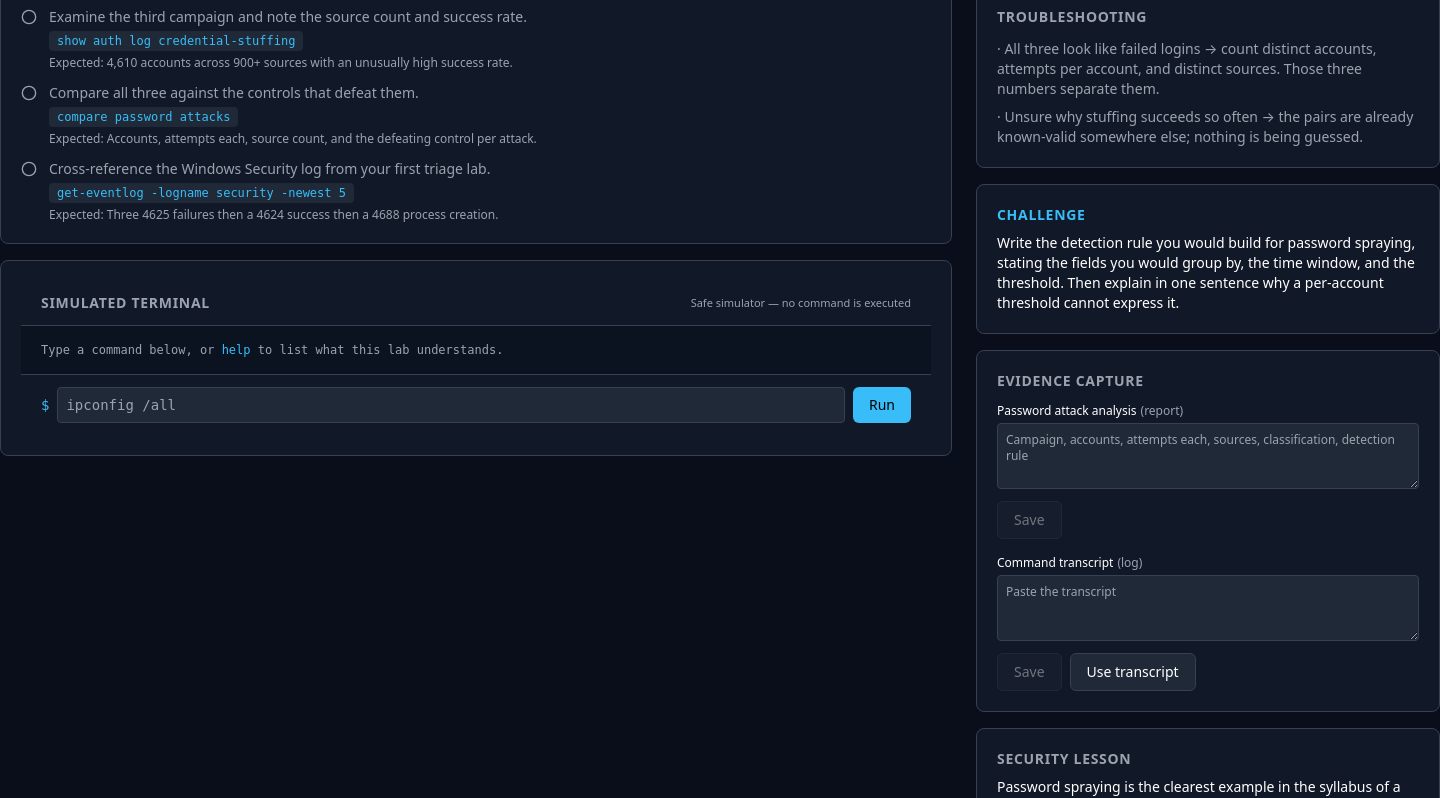
Test: Phase 3 labs run end to end › distinguishes the password attacks in the investigation lab
(page scrolled)
Type "show auth log password-spraying" into the field named "Simulated command input" at coordinates (451, 405), box x1=57 y1=387 x2=845 y2=423
Then press Enter
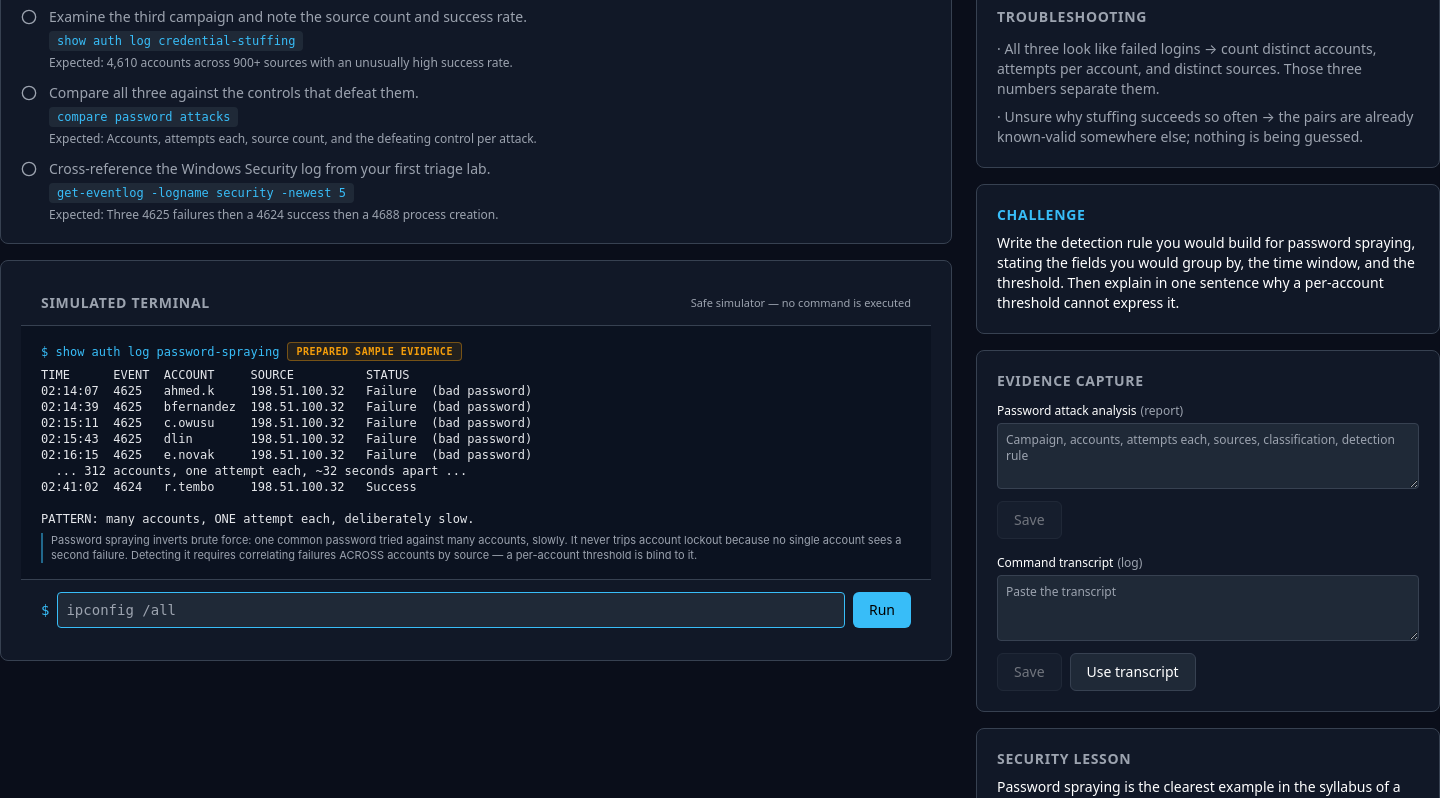
Type "compare password attacks" into the field named "Simulated command input" at coordinates (451, 610), box x1=57 y1=592 x2=845 y2=628
Then press Enter
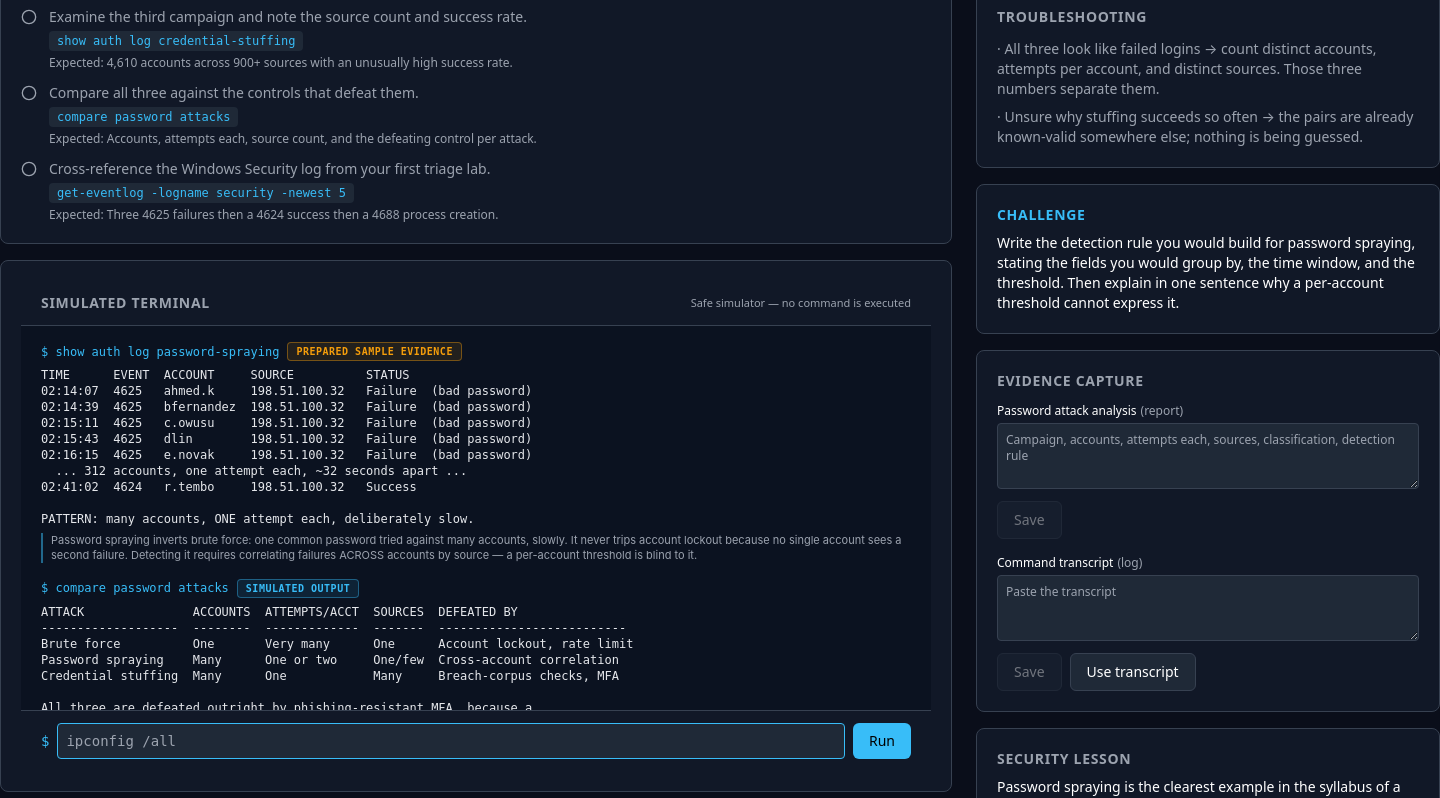
Result: the text "312 accounts, one attempt each" is shown at x1=41 y1=368 x2=532 y2=526
Result: the text "Cross-account correlation" is shown at x1=41 y1=605 x2=633 y2=710
